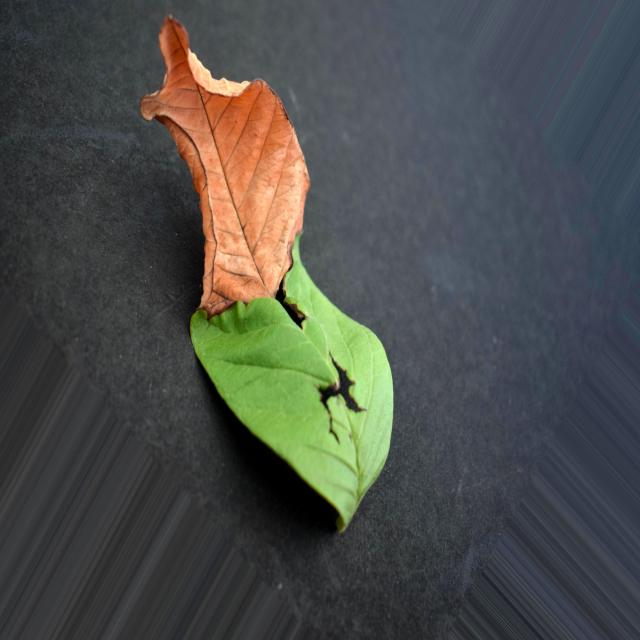Mummification: (140, 17, 394, 531)
